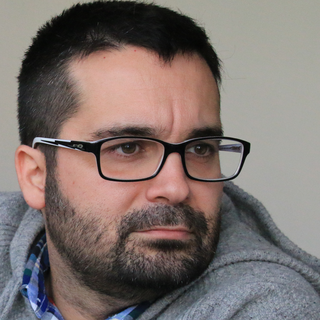eye: (107, 136, 149, 160), (185, 136, 224, 160)
